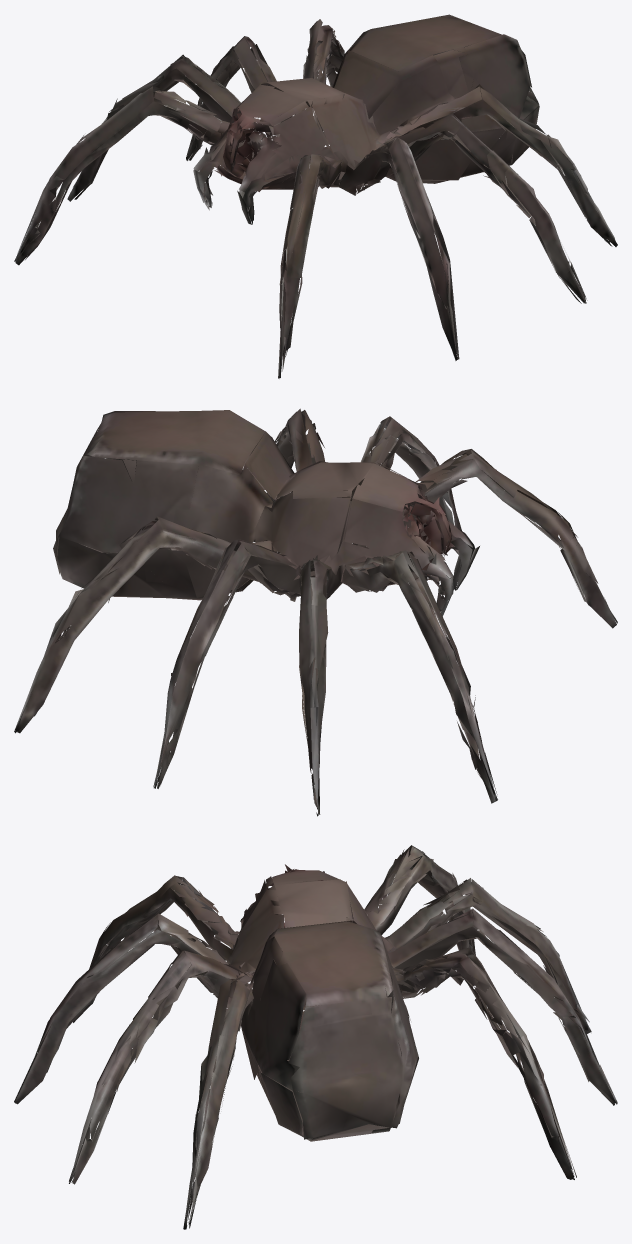
The model's file is Spider_lod.glb.
3 views of the same model, one above another, from view 1: azimuth 30°, elevation 25°; view 2: azimuth 150°, elevation 25°; view 3: azimuth 270°, elevation 25° (orthographic). The views are drawn at different scales.
Parts seen in each view (by area): view 1: tripo_node_f9fe0a88-de25-4222-8e30-8b15012a7142; view 2: tripo_node_f9fe0a88-de25-4222-8e30-8b15012a7142; view 3: tripo_node_f9fe0a88-de25-4222-8e30-8b15012a7142.
Part boxes in pixels (x1,y1,x2,y2): tripo_node_f9fe0a88-de25-4222-8e30-8b15012a7142: [14, 14, 617, 378]; tripo_node_f9fe0a88-de25-4222-8e30-8b15012a7142: [14, 408, 617, 816]; tripo_node_f9fe0a88-de25-4222-8e30-8b15012a7142: [14, 845, 617, 1229].
Size of the model in its own units: 0.9915 by 0.3993 by 0.9992.
1 material, 1 textured.
